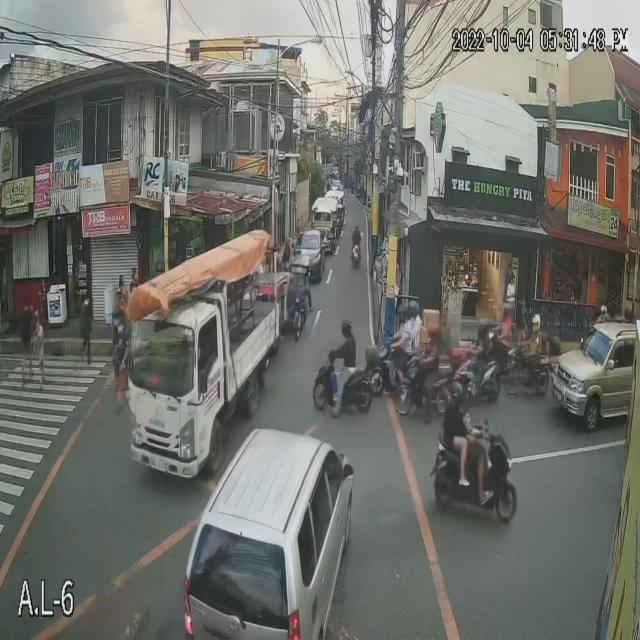full: (530, 312, 541, 333)
